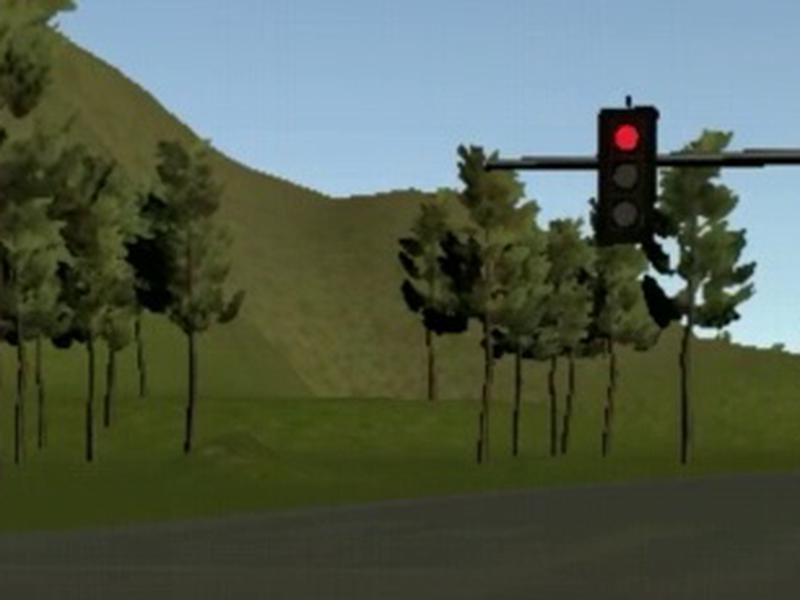Red: (606, 112, 650, 240)
